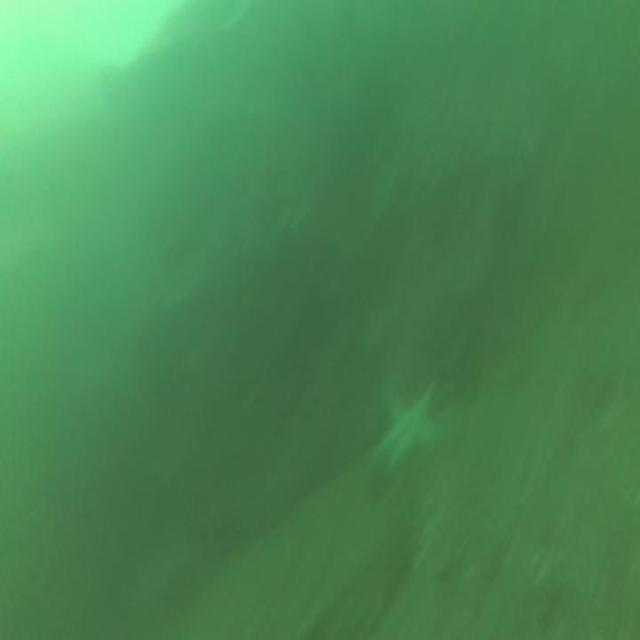starfish: (363, 381, 449, 479)
